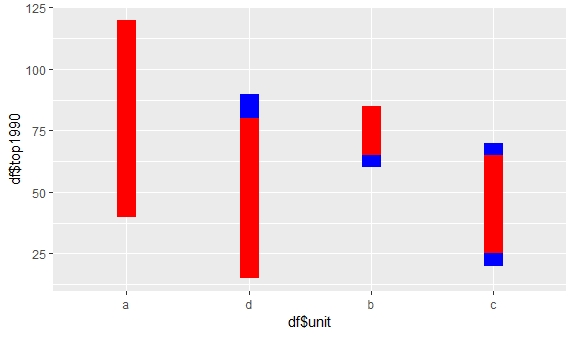S1_AxisNotZero: (12, 2, 574, 328)
